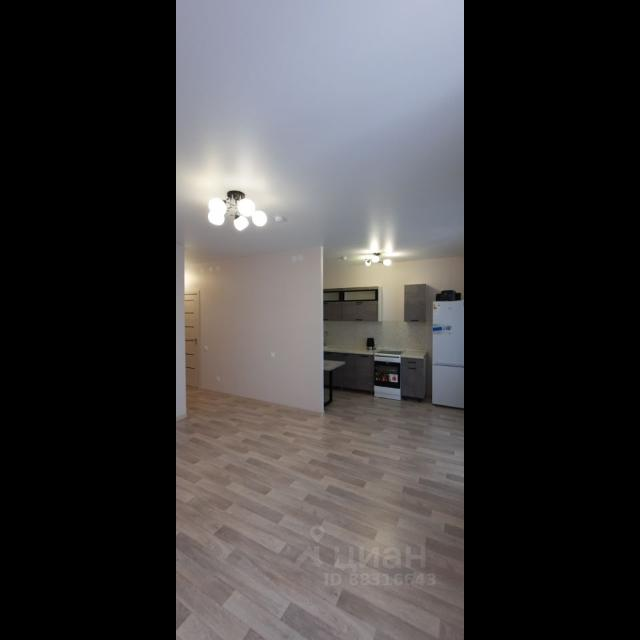Oven: (374, 354, 402, 398)
Refrigerator: (430, 297, 462, 409)
